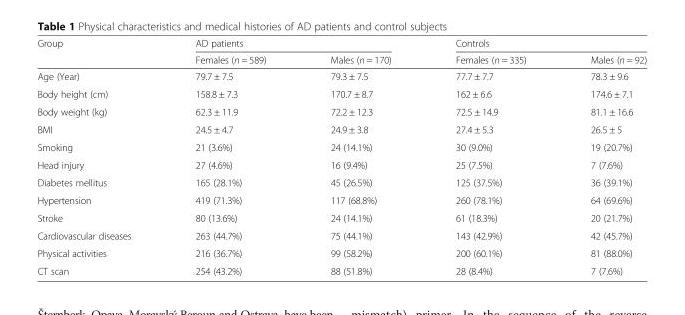table: (36, 37, 646, 276)
table column: (162, 37, 297, 276), (422, 37, 557, 276), (36, 37, 162, 276), (297, 37, 422, 276), (557, 37, 646, 276)
table column header: (36, 37, 646, 67)
table row: (36, 84, 646, 102), (36, 102, 646, 120), (36, 137, 646, 155), (36, 155, 646, 173), (36, 173, 646, 191), (36, 208, 646, 226), (36, 226, 646, 244), (36, 67, 646, 84), (36, 120, 646, 137), (36, 191, 646, 208), (36, 244, 646, 261), (36, 51, 646, 67), (36, 261, 646, 276), (36, 37, 646, 51)
table spanning cell: (36, 37, 162, 67), (162, 37, 422, 51), (422, 37, 646, 51)
